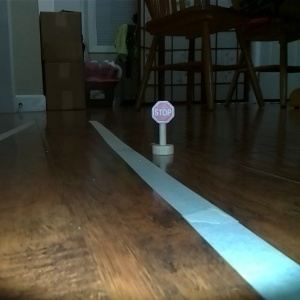stop sign: (148, 98, 177, 159)
